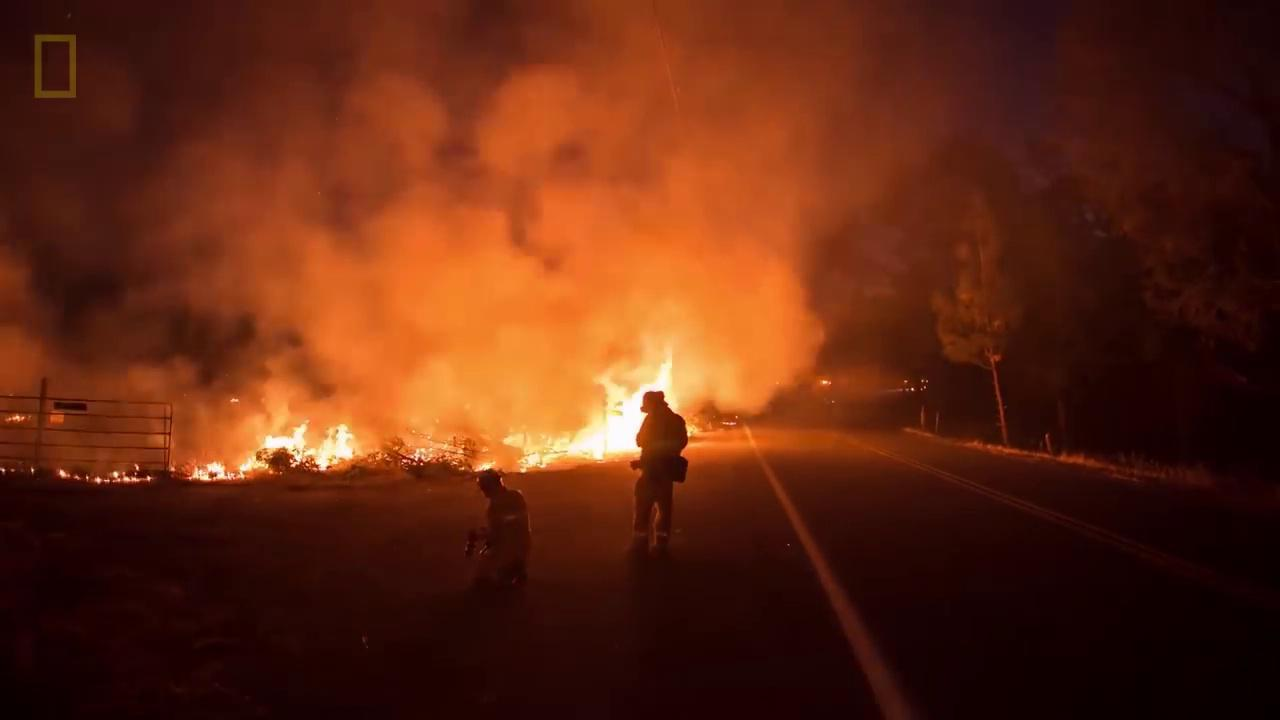Fire: (507, 348, 679, 474), (265, 416, 371, 473), (58, 464, 154, 486), (189, 457, 259, 485), (7, 412, 29, 424)
